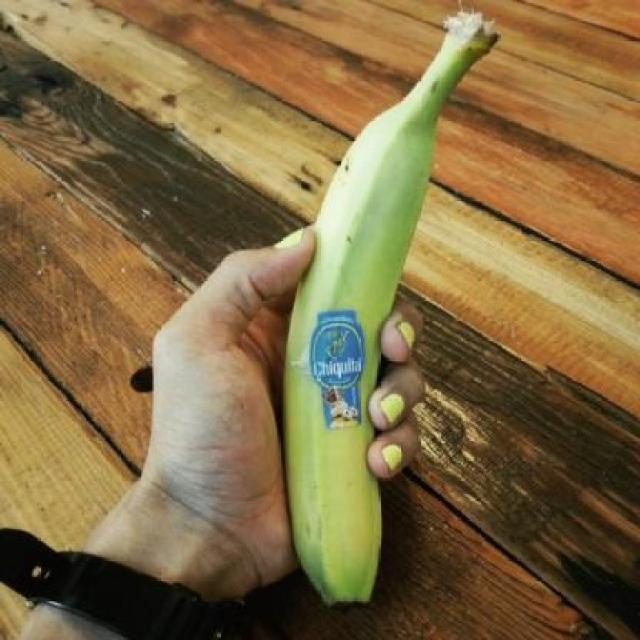Banana: (282, 7, 500, 615)
